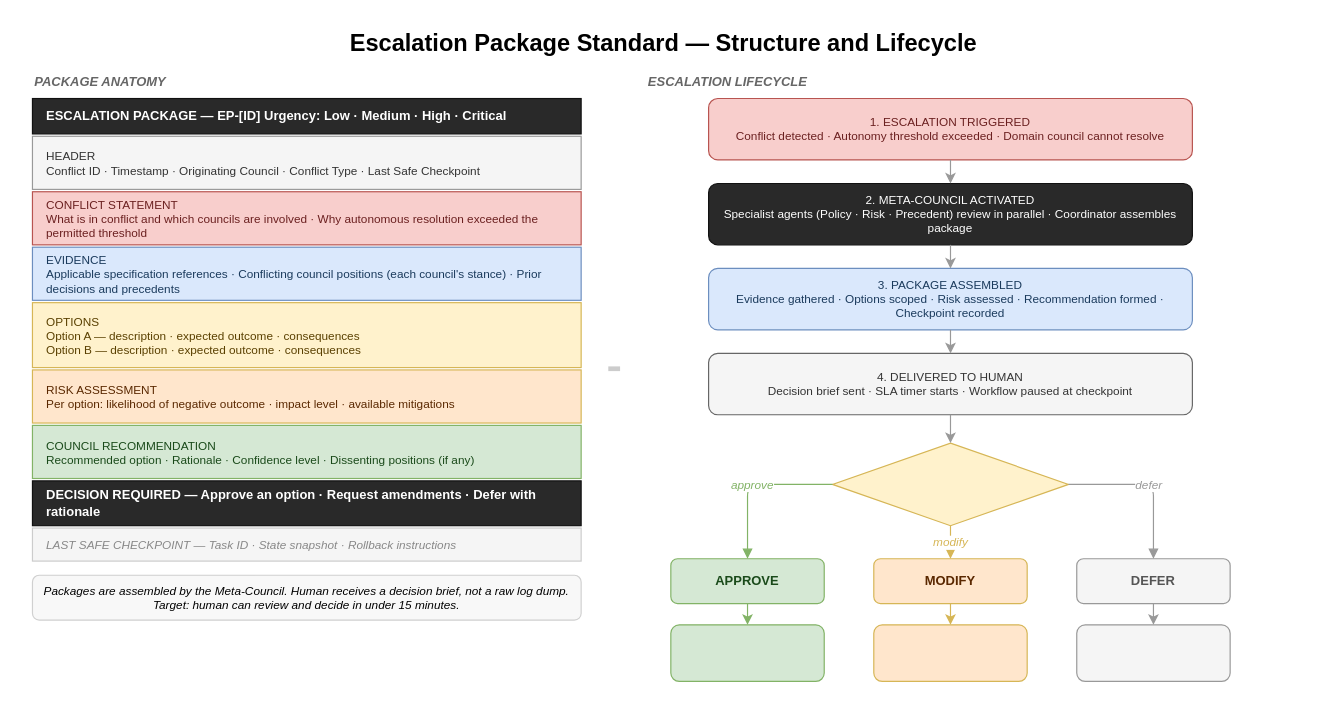
Image size: 1326x702. Some labels were removed from this diagram. The centre of each missing label's shape, as x and y in pixels:
"Decision logged Workflow resumes from checkpoint" goes at point 747,652.
"HUMAN DECIDES" goes at point 949,484.
"Package revised Resubmitted to human for review" goes at point 950,652.
"Work held at checkpoint · Pending decision logged" goes at point 1153,652.
